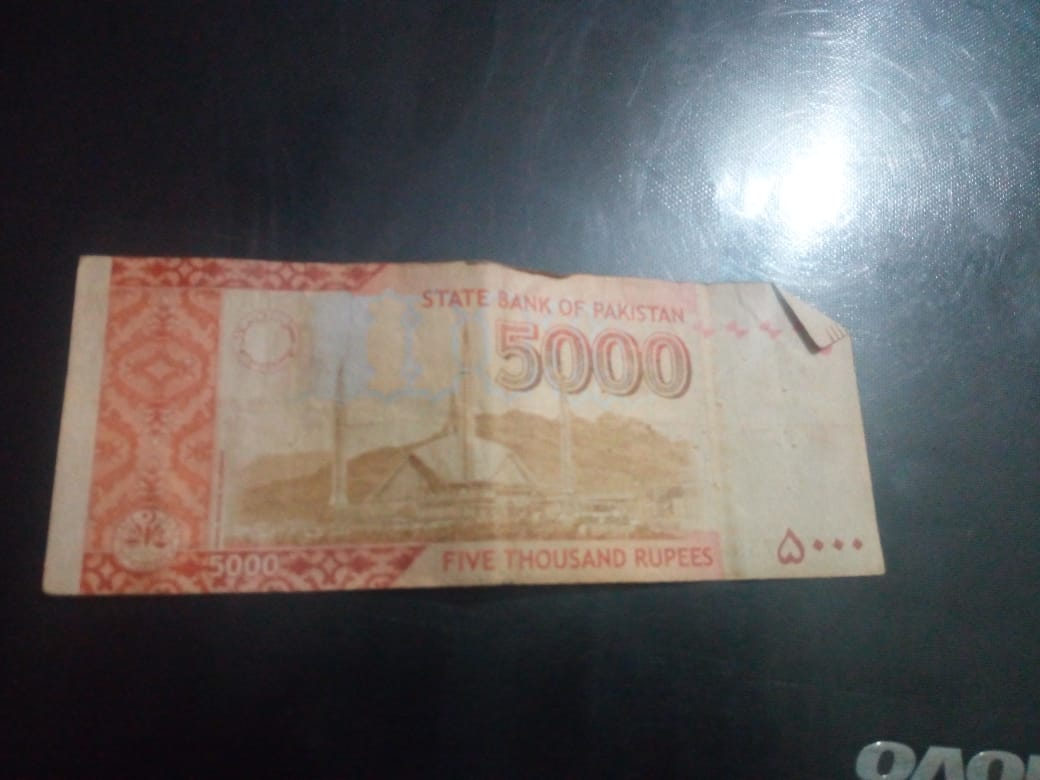5000 rupee: (29, 242, 918, 609)
